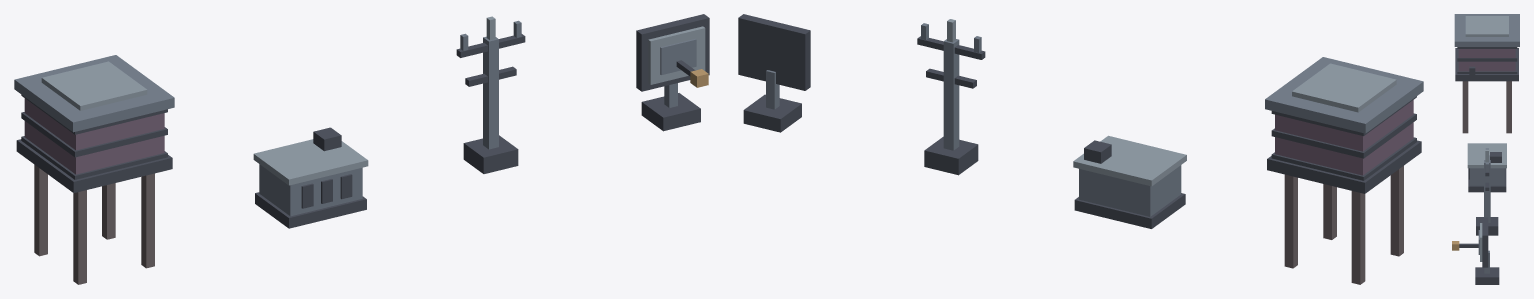
Rendered from gotham_rooftop_props.glb.
The picture shows the model from 3 angles, left to right: view 1: azimuth 30°, elevation 25°; view 2: azimuth 150°, elevation 25°; view 3: azimuth 270°, elevation 25°; orthographic projection. The views are drawn at different scales.
Parts seen in each view (by area): view 1: Tank body, Tank lid, AC top, Tank lid crown, AC housing, Tank bottom, Dish dark rim, Antenna lower mast, Dish reflector, Dish base, AC plinth, Antenna foot (+10 smaller); view 2: Tank body, Tank lid, Dish dark rim, AC housing, Tank lid crown, AC top, Tank bottom, Antenna lower mast, Dish base, AC plinth, Antenna foot, Water tower timber leg (+9 smaller); view 3: Tank lid, Tank body, Tank lid crown, AC top, Tank bottom, AC housing, Dish base, Water tower timber leg.003, Dish dark rim, Antenna lower mast, AC plinth, Water tower timber leg.002 (+10 smaller).
Part boxes in pixels (x1,y1,x2,y2): Tank body: [24, 98, 164, 174]; Tank lid: [14, 55, 174, 132]; AC top: [253, 139, 368, 185]; Tank lid crown: [41, 61, 147, 110]; AC housing: [259, 164, 362, 216]; Tank bottom: [16, 139, 172, 192]; Dish dark rim: [636, 14, 709, 91]; Antenna lower mast: [483, 36, 498, 149]; Dish reflector: [648, 26, 705, 84]; Dish base: [641, 93, 700, 131]; AC plinth: [255, 192, 366, 228]; Antenna foot: [463, 135, 518, 173]; Tank body: [1275, 100, 1413, 175]; Tank lid: [1265, 57, 1423, 133]; Dish dark rim: [738, 14, 810, 90]; AC housing: [1079, 165, 1181, 216]; Tank lid crown: [1292, 63, 1396, 112]; AC top: [1073, 135, 1186, 186]; Tank bottom: [1267, 140, 1421, 193]; Antenna lower mast: [943, 39, 959, 150]; Dish base: [743, 94, 801, 132]; AC plinth: [1074, 193, 1185, 228]; Antenna foot: [924, 136, 978, 175]; Water tower timber leg: [1351, 191, 1365, 284]; Tank lid: [1454, 14, 1519, 46]; Tank body: [1458, 49, 1515, 71]; Tank lid crown: [1465, 16, 1508, 36]; AC top: [1467, 143, 1506, 168]; Tank bottom: [1455, 48, 1518, 81]; AC housing: [1470, 168, 1504, 185]; Dish base: [1475, 267, 1499, 284]; Water tower timber leg.003: [1462, 81, 1468, 133]; Dish dark rim: [1482, 217, 1488, 267]; Antenna lower mast: [1484, 160, 1490, 222]; AC plinth: [1468, 168, 1506, 192]; Water tower timber leg.002: [1506, 81, 1511, 133].
Size of the model in its own units: 9.17 by 2.33 by 1.46.
